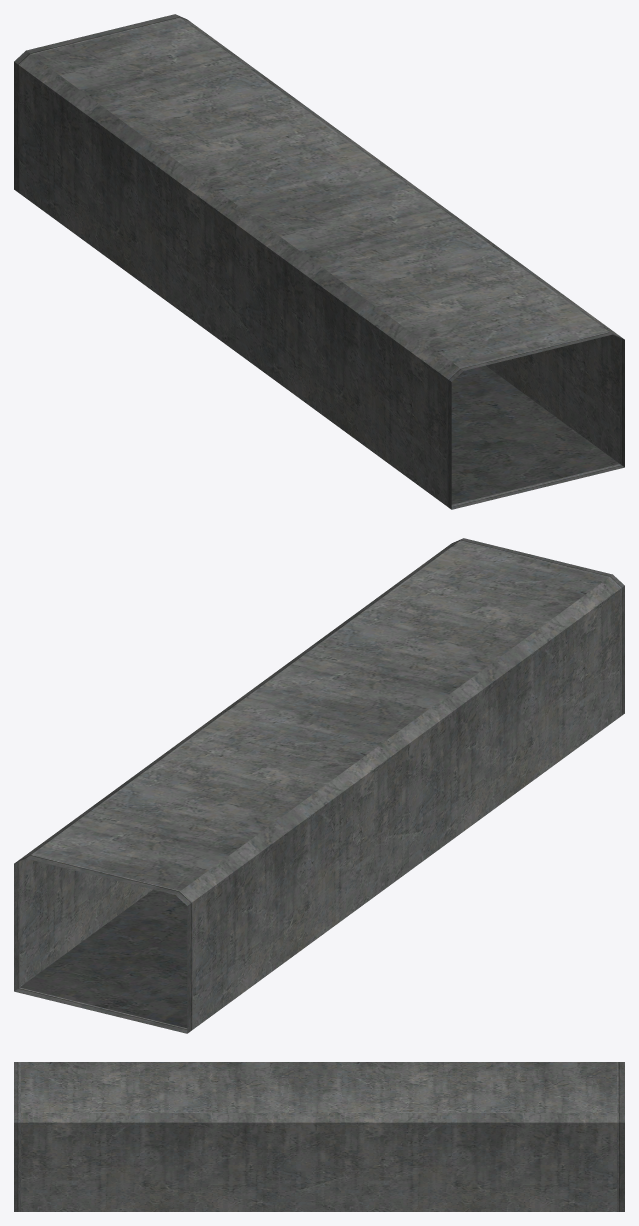
File: thm_yavn_jedi_enclave_dark_r10_arenahall_mesh.fbx
3 views of the same model, one above another, from view 1: azimuth 30°, elevation 25°; view 2: azimuth 150°, elevation 25°; view 3: azimuth 270°, elevation 25° (orthographic). The views are drawn at different scales.
Parts seen in each view (by area): view 1: mesh_node; view 2: mesh_node; view 3: mesh_node.
Boxes of the visible parts, x1,y1,x2,y2 form: mesh_node: (14, 14, 624, 509); mesh_node: (14, 538, 624, 1033); mesh_node: (14, 1062, 624, 1211).
Size of the model in its own units: 4 by 3 by 17.5.
